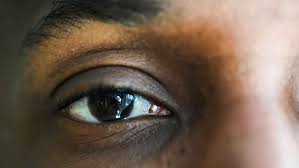pupil: (89, 89, 133, 121)
